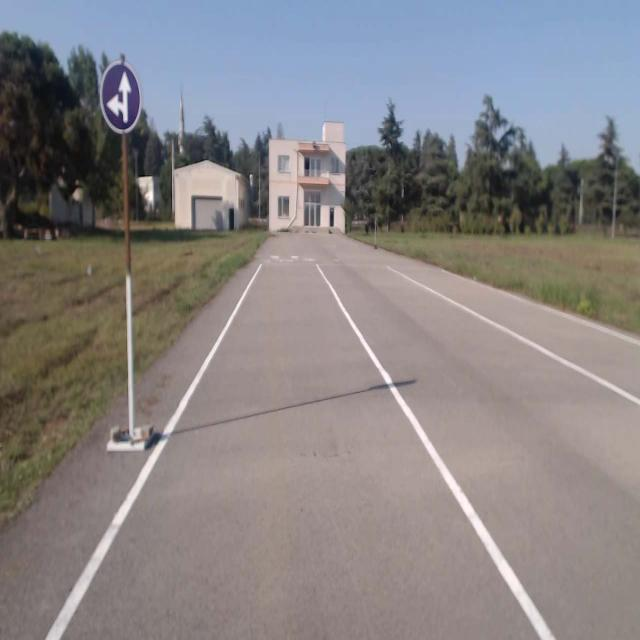ilerisol: (100, 59, 142, 133)
